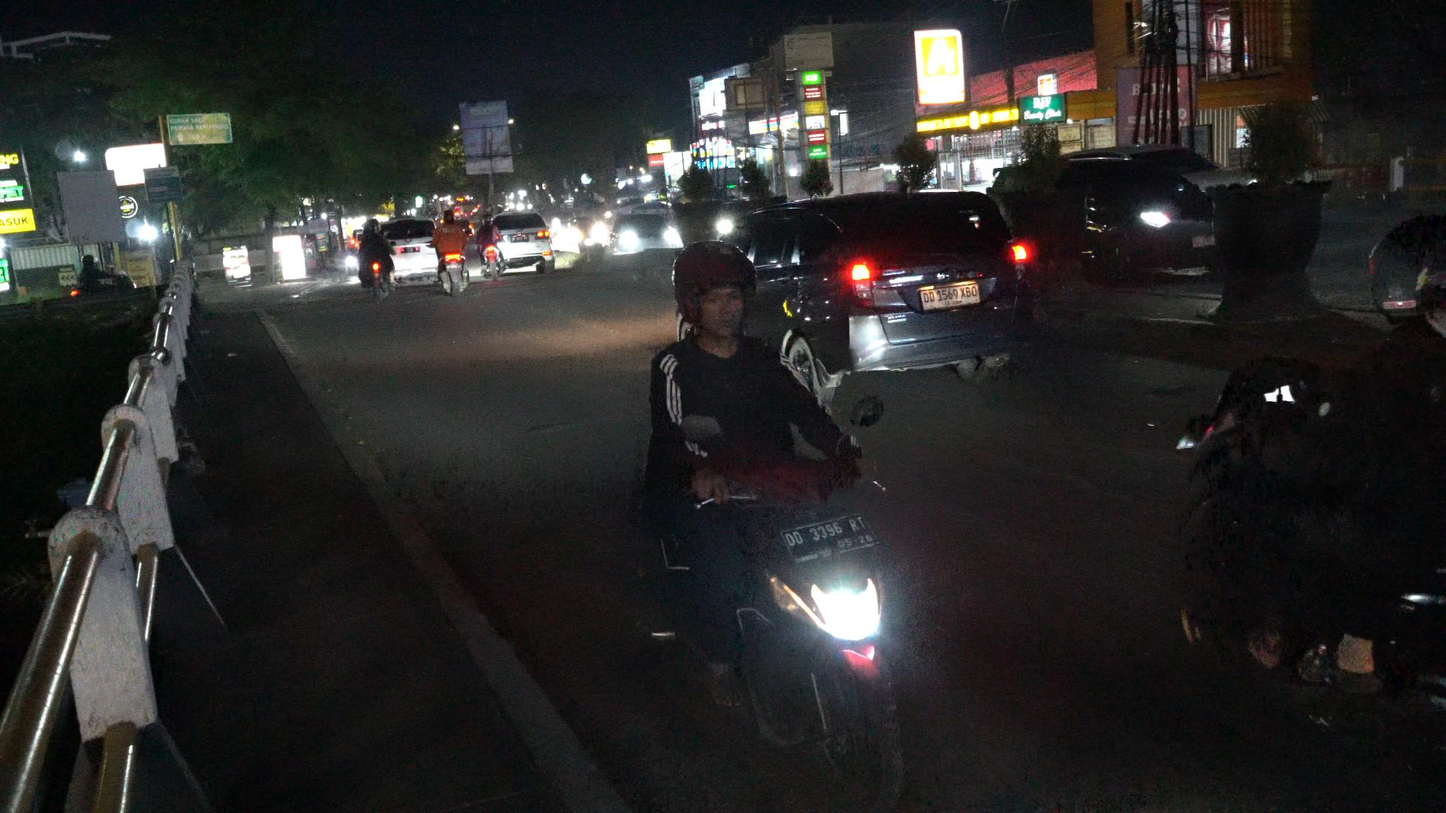number-plate: (773, 508, 884, 565)
